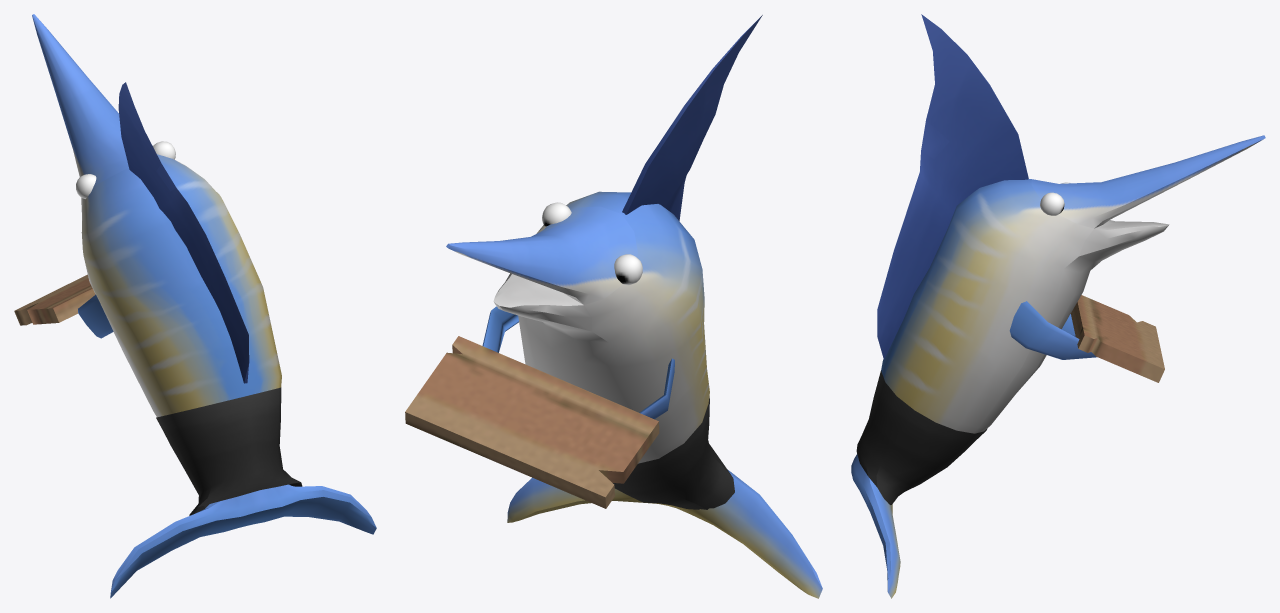
The model's file is kajiki_walk_c_04.fbx.
3 renders of one model, left to right at view 1: azimuth 30°, elevation 25°; view 2: azimuth 150°, elevation 25°; view 3: azimuth 270°, elevation 25°, orthographic. The views are drawn at different scales.
Visible parts, largest first — view 1: W_c_04; view 2: W_c_04; view 3: W_c_04.
Part boxes in pixels (x1,y1,x2,y2): W_c_04: [14, 14, 376, 598]; W_c_04: [405, 15, 822, 598]; W_c_04: [851, 14, 1265, 598].
Size of the model in its own units: 1.41 by 2.51 by 1.98.
Materials: 1 (1 with a texture image).
